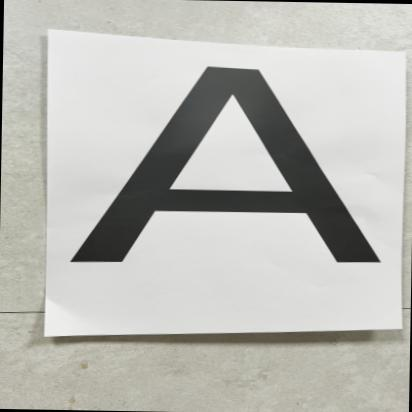seat: (53, 56, 406, 270)
